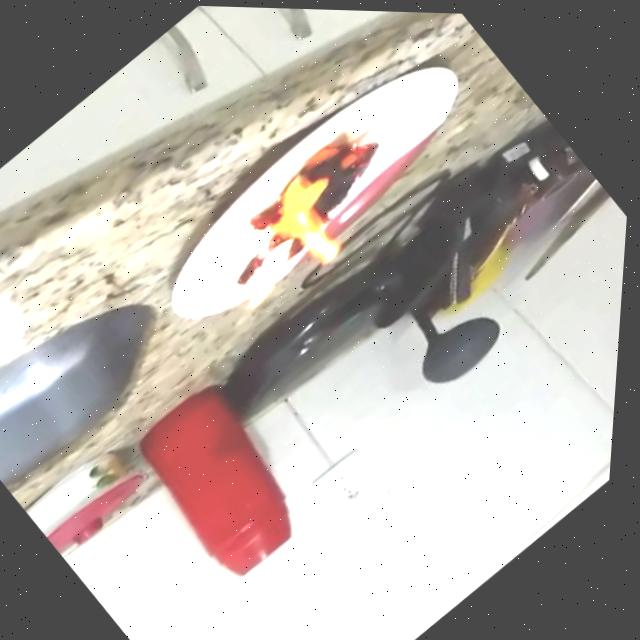Fire: (234, 108, 430, 295)
